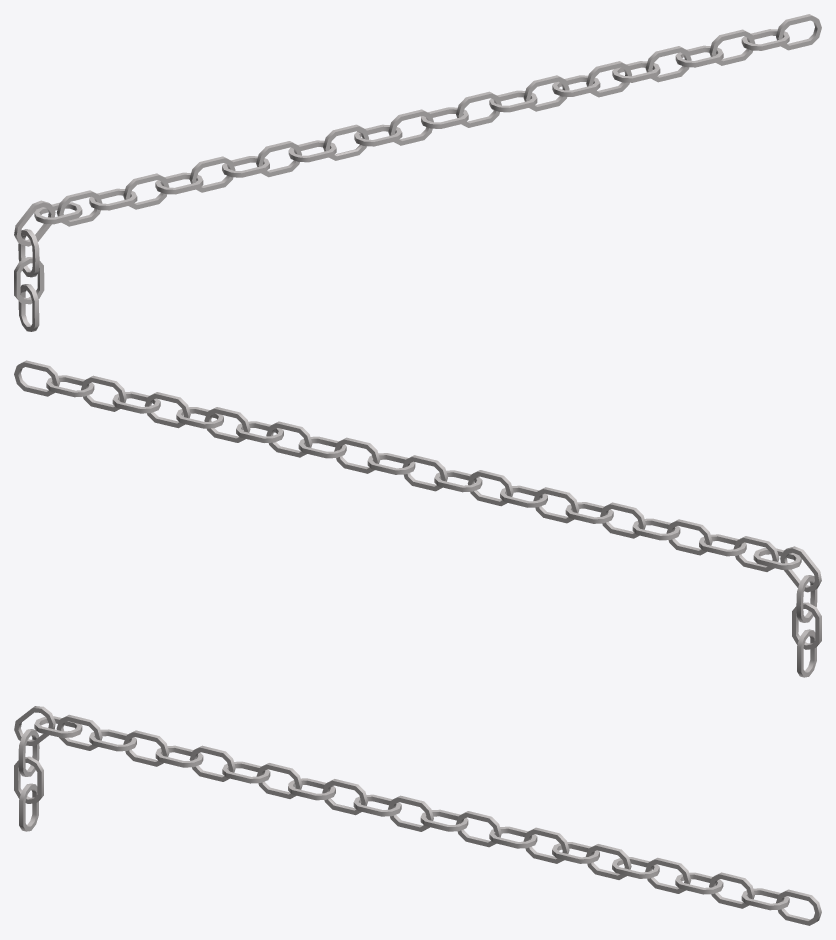
The picture shows the model from 3 angles, top to bottom: view 1: azimuth 30°, elevation 25°; view 2: azimuth 150°, elevation 25°; view 3: azimuth 330°, elevation 25°; orthographic projection.
Visible parts, largest first — view 1: C_S; view 2: C_S; view 3: C_S.
Boxes of the visible parts, x1=… form: C_S: x1=14, y1=14, x2=821, y2=331; C_S: x1=14, y1=360, x2=821, y2=677; C_S: x1=14, y1=706, x2=821, y2=925.
Bounding box in the file's own units: 92.28 × 13.79 × 3.32.
Materials: 1 (1 with a texture image).
